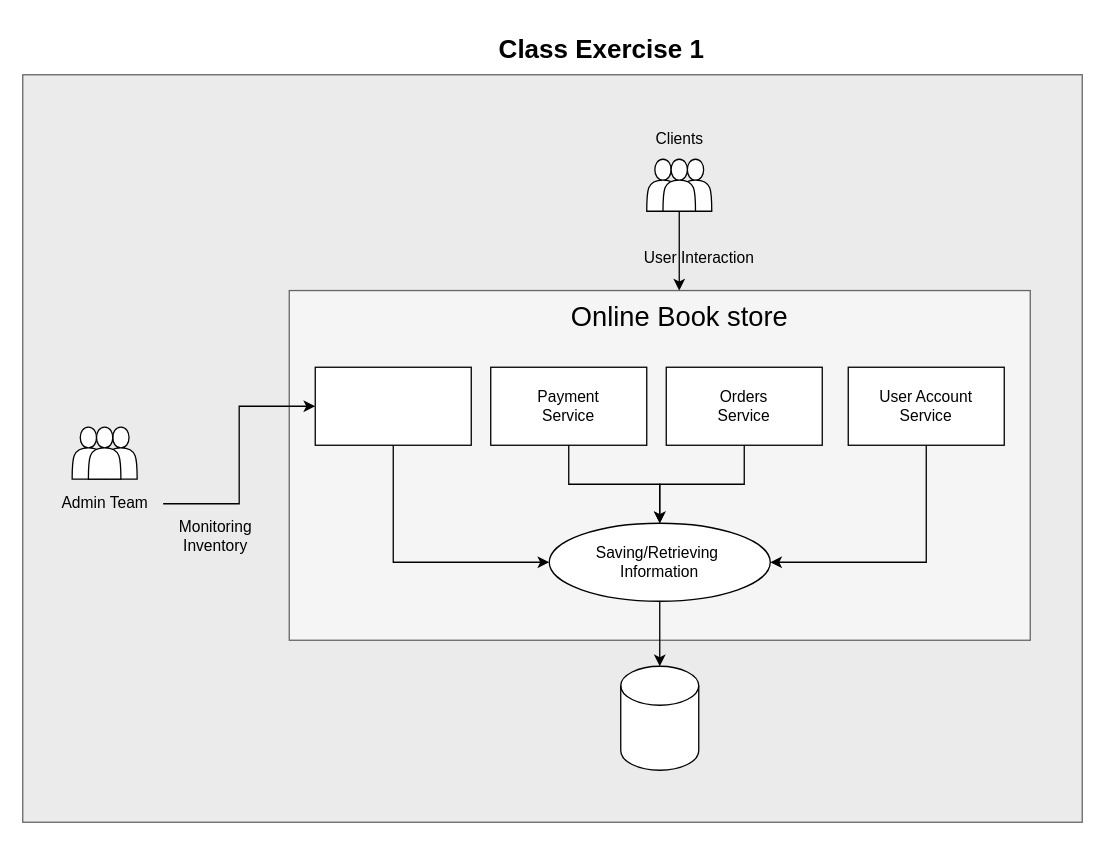
Image size: 1105x845. Some labels were removed from this diagram. Here are the shapes that lost their labels. From the top down, the box of each, then its label:
(314, 366, 471, 445): Inventory Service
(619, 665, 699, 770): Database
